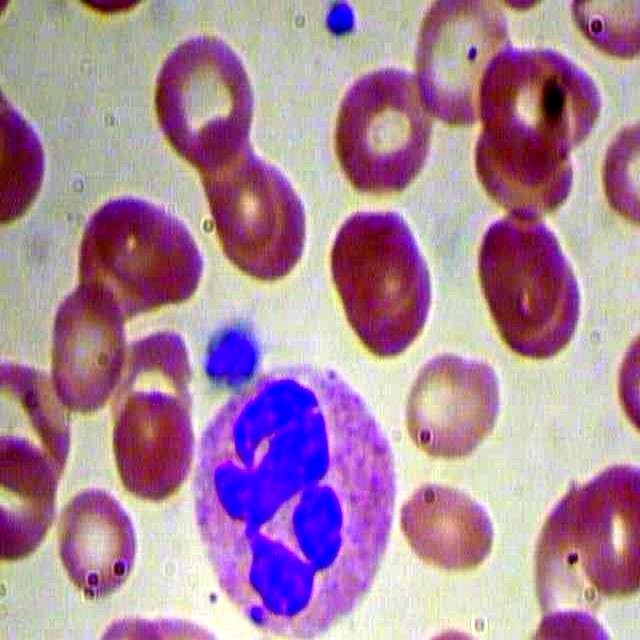Platelets: (198, 313, 267, 391), (315, 1, 357, 48)
RBC: (325, 204, 438, 355), (468, 208, 581, 359), (332, 60, 440, 204), (148, 22, 256, 166), (393, 462, 504, 578), (400, 351, 511, 466), (43, 273, 127, 415), (54, 481, 146, 600), (104, 385, 196, 504)
WBC: (172, 366, 407, 640)
